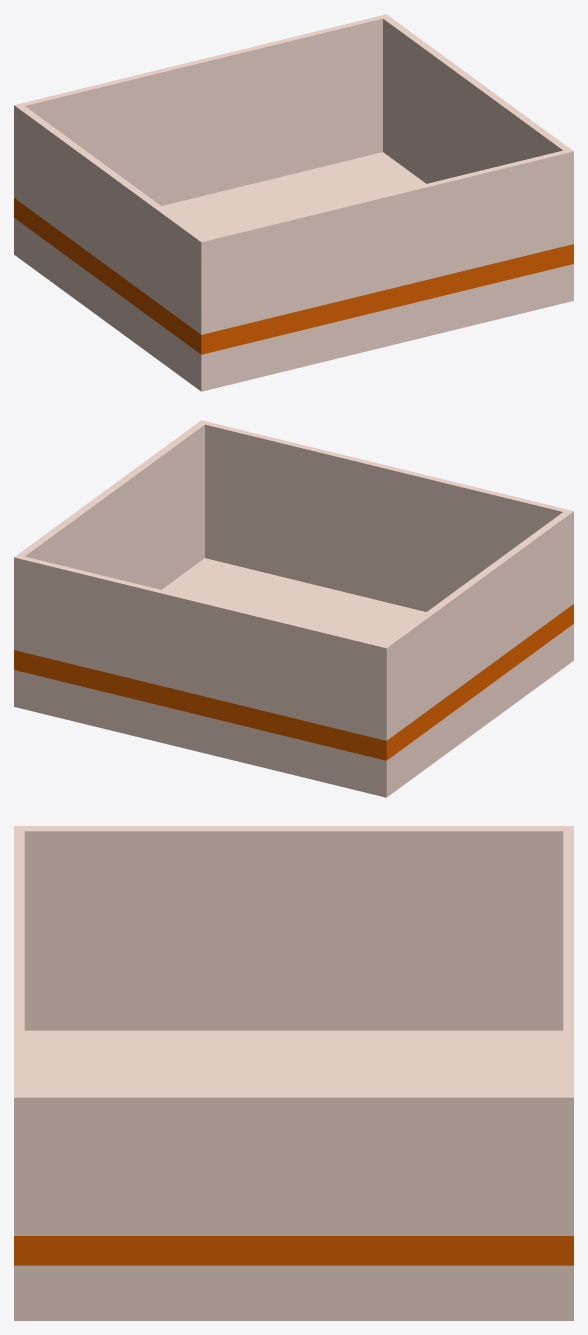
File: Prop_SmallStorageBox_01.fbx
The picture shows the model from 3 angles, top to bottom: view 1: azimuth 30°, elevation 25°; view 2: azimuth 150°, elevation 25°; view 3: azimuth 270°, elevation 25°; orthographic projection. The views are drawn at different scales.
Visible parts, largest first — view 1: Prop_SmallStorageBox_01; view 2: Prop_SmallStorageBox_01; view 3: Prop_SmallStorageBox_01.
Part boxes in pixels (box(x1,y1,x2,y2)): Prop_SmallStorageBox_01: box(14, 14, 573, 391); Prop_SmallStorageBox_01: box(14, 420, 573, 797); Prop_SmallStorageBox_01: box(14, 826, 573, 1320).
Size of the model in its own units: 32.34 by 12.4 by 28.18.
